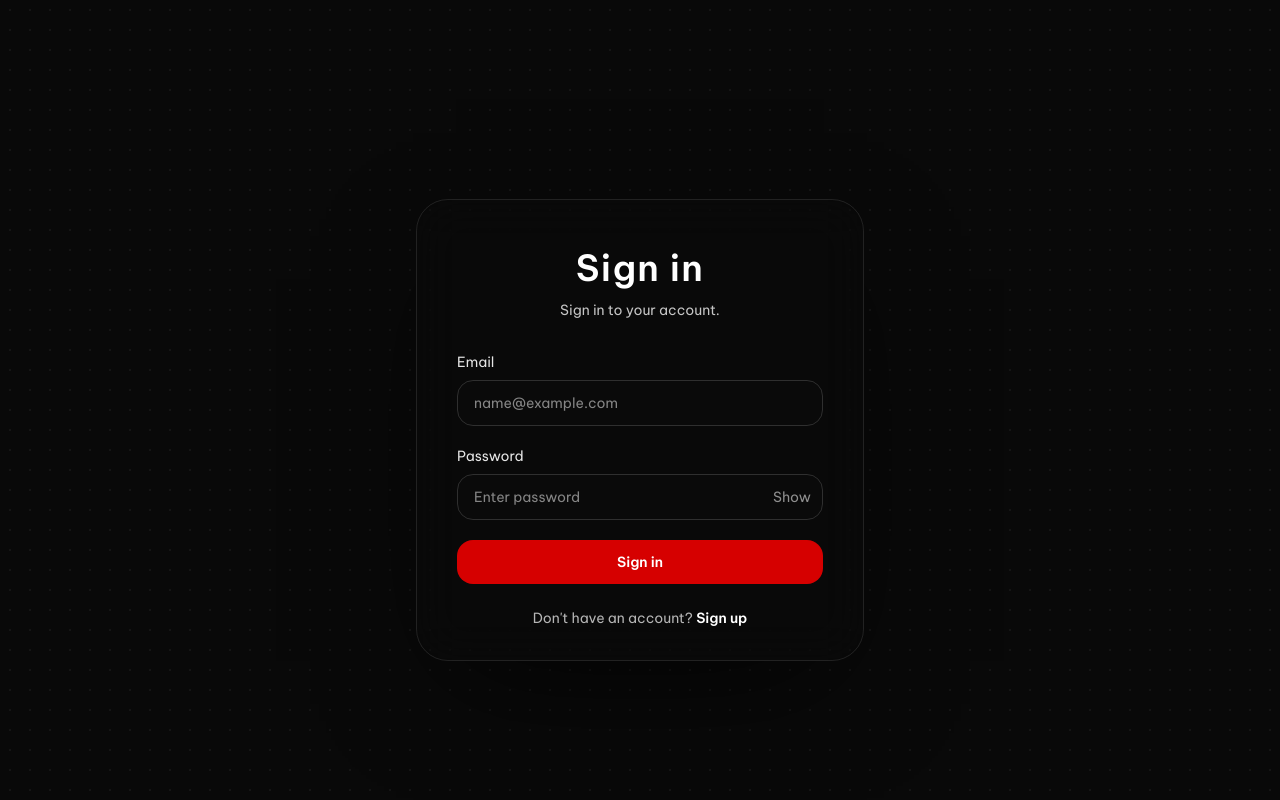
Test: LoginPage › validates required fields and does not submit invalid input
The width and height of the screenshot is (1280, 800).
What coordinates should you click on to do the following:
click the button "Sign in"
I would click on:
 (640, 562)
Its box is [457, 540, 823, 584].
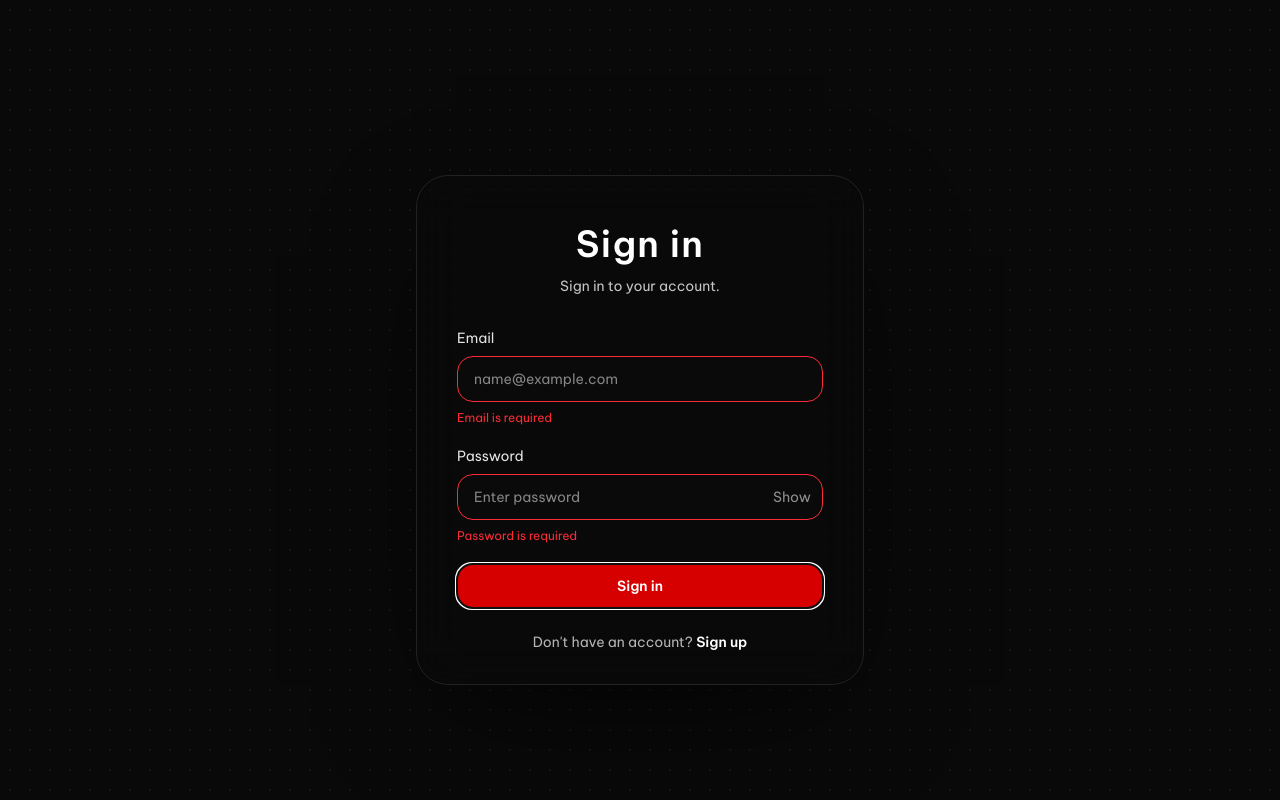
Expected: the button "Sign in" is enabled, [457, 564, 823, 608]
Now the text "Email is required" is shown, box [457, 410, 552, 425]
Now the text "Password is required" is shown, box [457, 528, 577, 543]
